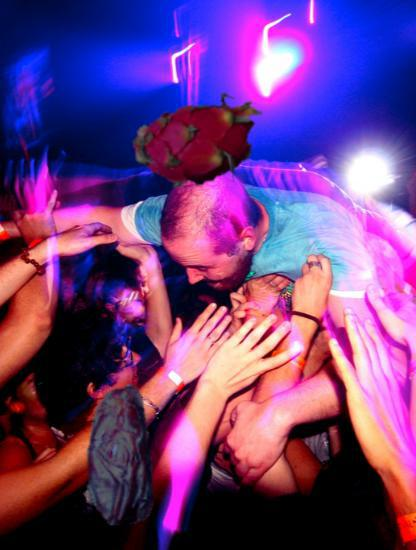Dates: (49, 385, 190, 526)
Pitahaya: (131, 73, 267, 209)
